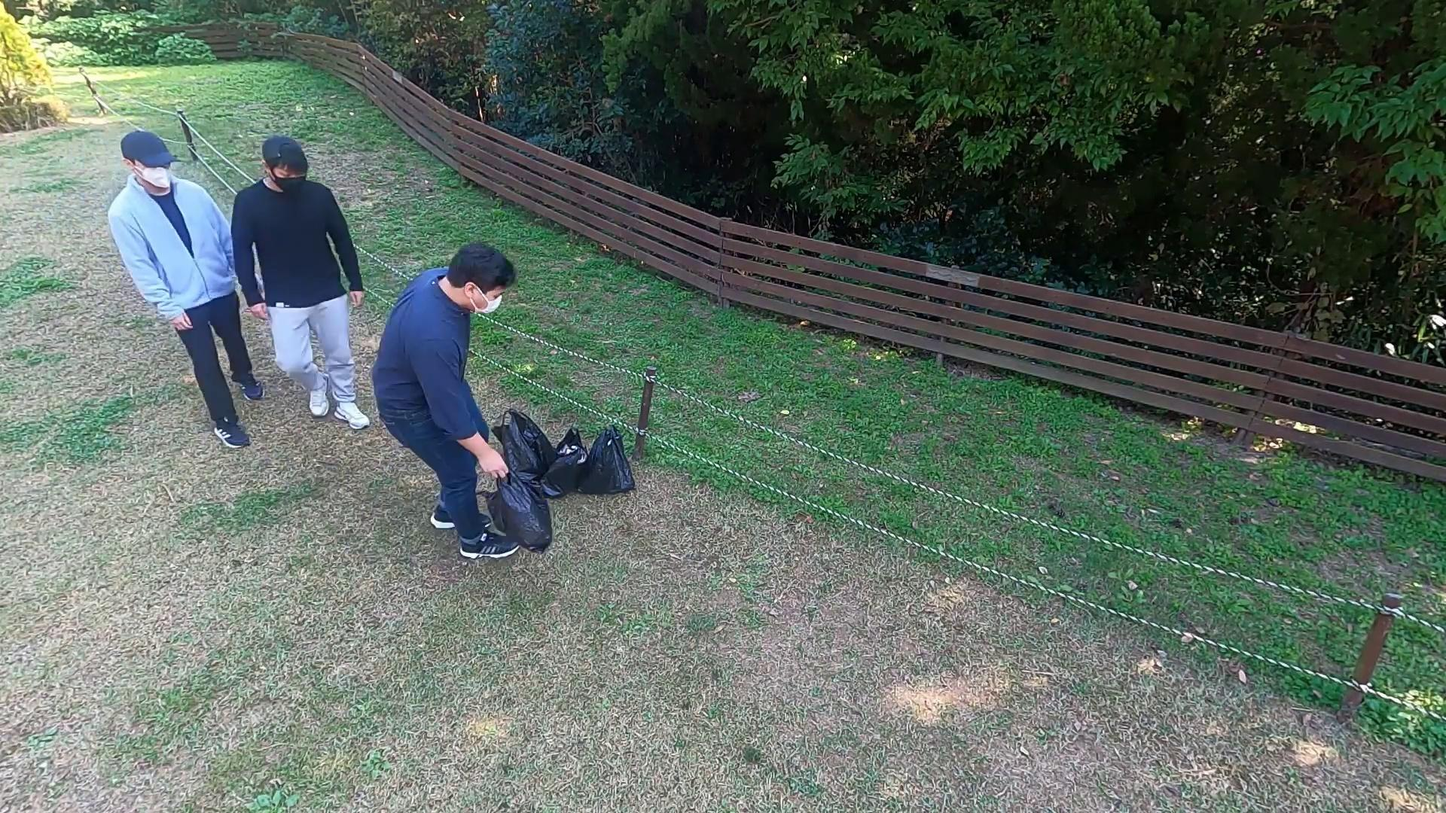person: (106, 128, 264, 449), (371, 237, 522, 564), (229, 134, 372, 431)
trash: (485, 474, 556, 553), (494, 410, 554, 480), (579, 426, 637, 497), (540, 425, 594, 497)
